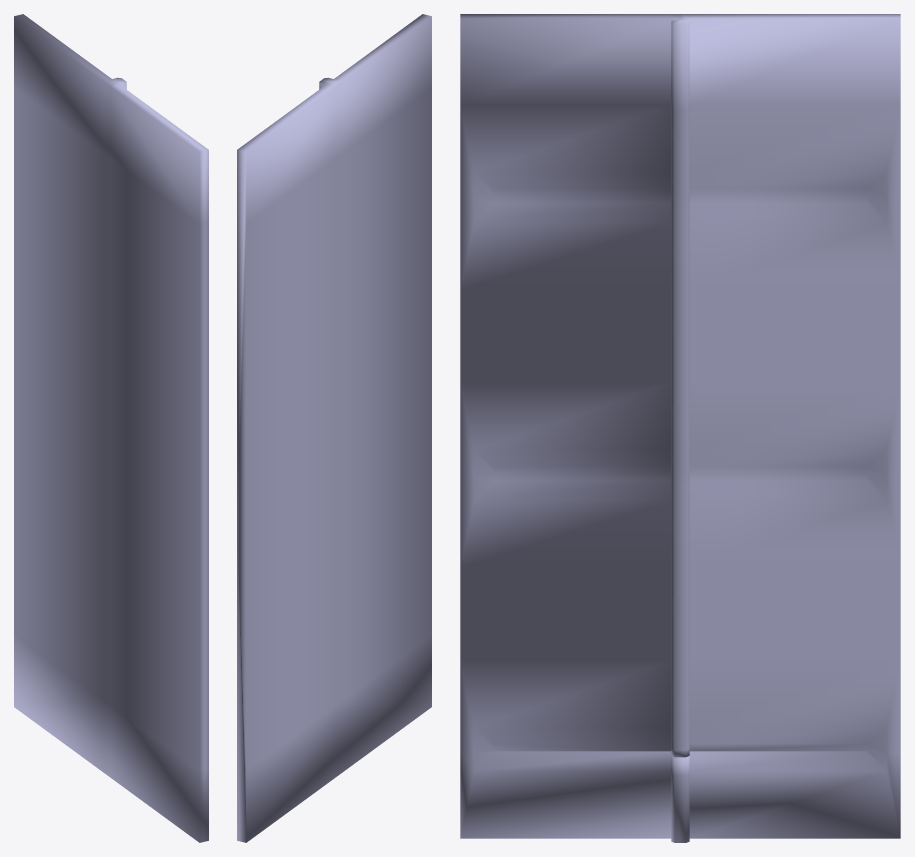
The model's file is StorageContainerDoorLeft.fbx.
3 renders of one model, left to right at view 1: azimuth 30°, elevation 25°; view 2: azimuth 150°, elevation 25°; view 3: azimuth 270°, elevation 25°, orthographic. The views are drawn at different scales.
Visible parts, largest first — view 1: StoragecontainerDoorLeft:DoorLeft; view 2: StoragecontainerDoorLeft:DoorLeft; view 3: StoragecontainerDoorLeft:DoorLeft.
Boxes of the visible parts, <box> form: StoragecontainerDoorLeft:DoorLeft: <box>14,14,208,842</box>; StoragecontainerDoorLeft:DoorLeft: <box>237,14,431,842</box>; StoragecontainerDoorLeft:DoorLeft: <box>460,14,900,842</box>.
Size of the model in its own units: 0.4757 by 17.66 by 8.6.
